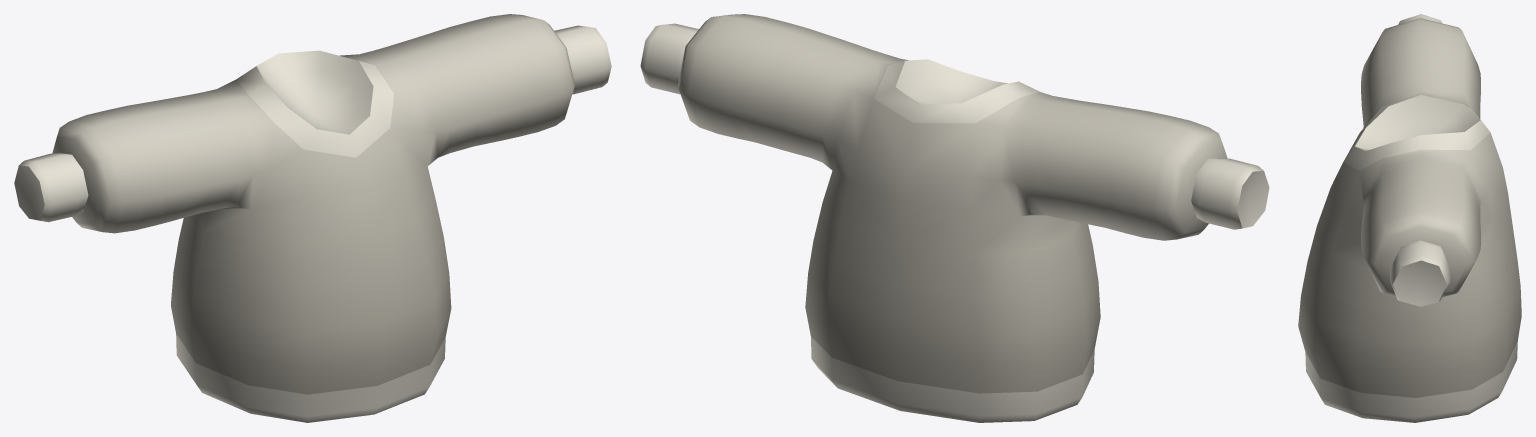
The model's file is Top_16.fbx.
3 renders of one model, left to right at view 1: azimuth 30°, elevation 25°; view 2: azimuth 150°, elevation 25°; view 3: azimuth 270°, elevation 25°, orthographic. The views are drawn at different scales.
Parts seen in each view (by area): view 1: Top_16; view 2: Top_16; view 3: Top_16.
Boxes of the visible parts, x1,y1,x2,y2 form: Top_16: [14, 14, 611, 422]; Top_16: [640, 14, 1269, 422]; Top_16: [1298, 14, 1521, 422].
Size of the model in its own units: 95.16 by 47.67 by 36.49.
